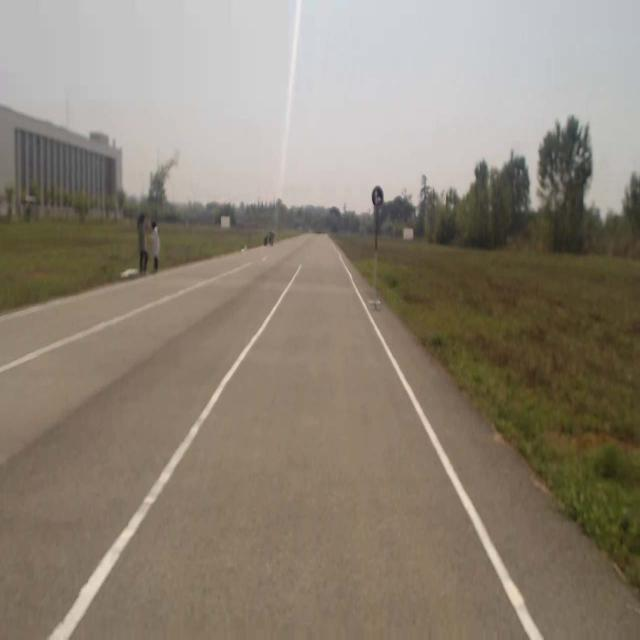ilerisag: (372, 186, 384, 207)
